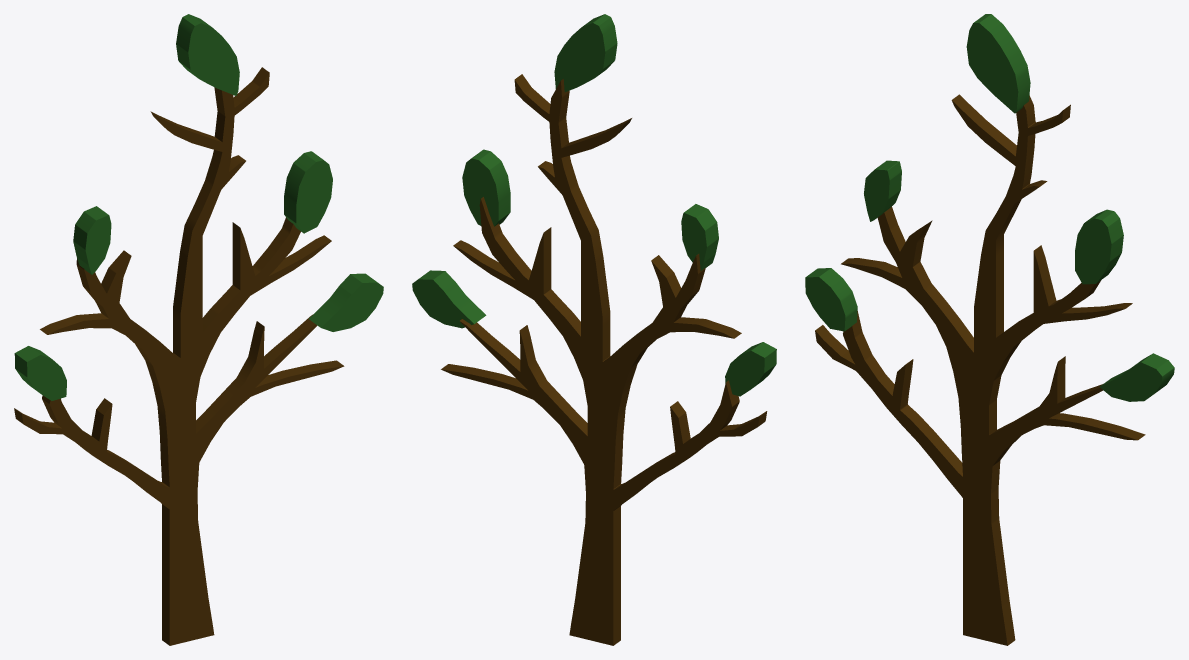
File: tree1.fbx
3 renders of one model, left to right at view 1: azimuth 30°, elevation 25°; view 2: azimuth 150°, elevation 25°; view 3: azimuth 330°, elevation 25°, orthographic.
Parts seen in each view (by area): view 1: polySurface15, polySurface18, polySurface20, polySurface19, polySurface17, polySurface16; view 2: polySurface15, polySurface18, polySurface20, polySurface19, polySurface17, polySurface16; view 3: polySurface15, polySurface18, polySurface20, polySurface16, polySurface19, polySurface17.
Boxes of the visible parts, bbox=[...] form: polySurface15: bbox=[14, 67, 344, 645]; polySurface18: bbox=[176, 14, 239, 95]; polySurface20: bbox=[284, 151, 332, 233]; polySurface19: bbox=[309, 273, 383, 331]; polySurface17: bbox=[73, 206, 111, 274]; polySurface16: bbox=[14, 346, 66, 400]; polySurface15: bbox=[441, 74, 767, 645]; polySurface18: bbox=[554, 14, 617, 92]; polySurface20: bbox=[462, 149, 510, 226]; polySurface19: bbox=[412, 270, 486, 328]; polySurface17: bbox=[681, 204, 718, 270]; polySurface16: bbox=[725, 342, 776, 396]; polySurface15: bbox=[815, 94, 1145, 645]; polySurface18: bbox=[966, 14, 1030, 113]; polySurface20: bbox=[1075, 209, 1123, 284]; polySurface16: bbox=[805, 268, 857, 331]; polySurface19: bbox=[1100, 353, 1174, 401]; polySurface17: bbox=[864, 160, 901, 221].
Size of the model in its own units: 5.03 by 8.39 by 0.3713.
